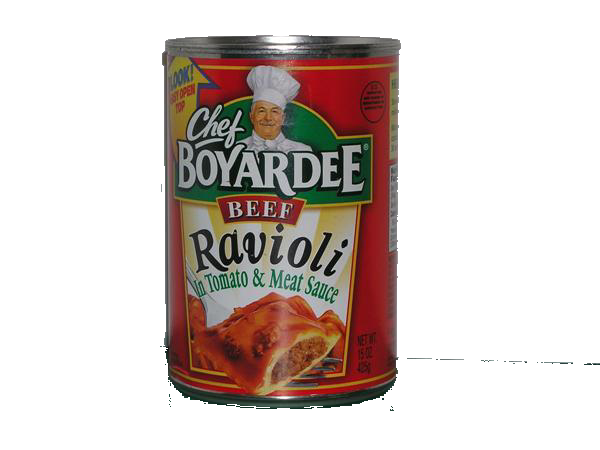grozi_90: (163, 34, 599, 410)
